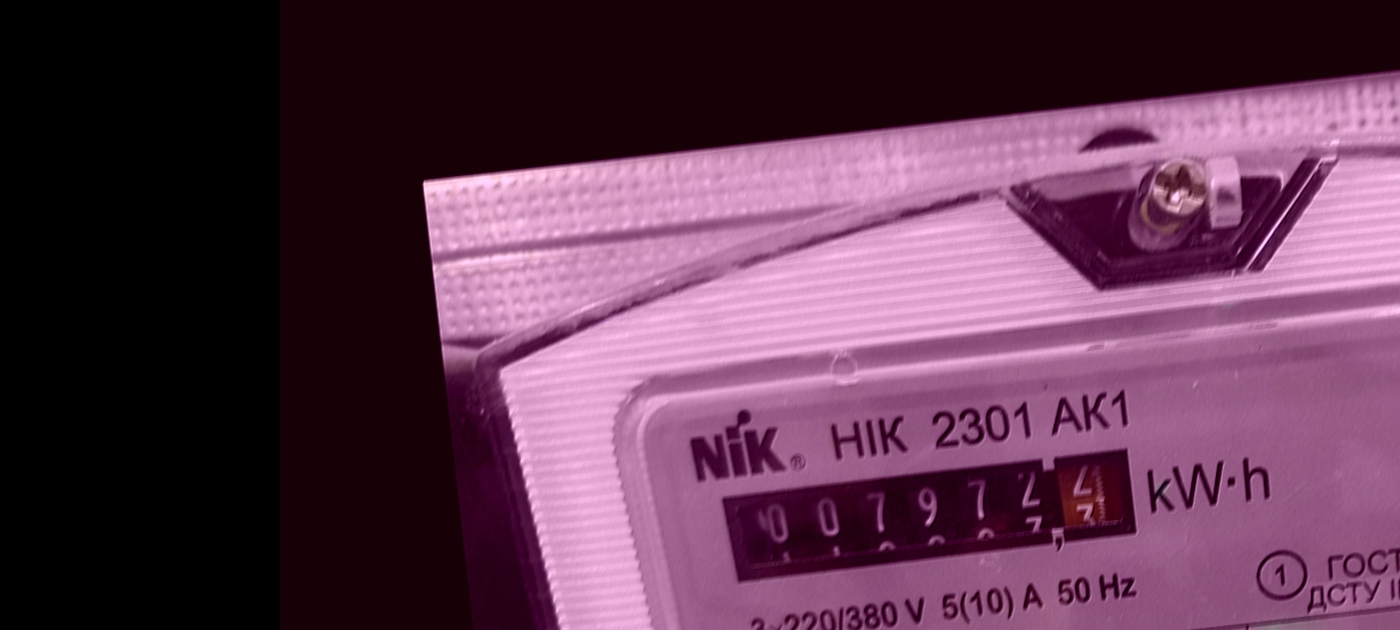0: (762, 501, 793, 545), (814, 495, 842, 539)
2: (1015, 470, 1043, 510), (1067, 464, 1093, 500)
3: (1073, 501, 1097, 528)
7: (963, 476, 994, 524), (863, 489, 892, 536)
9: (914, 484, 941, 529)
screen: (704, 436, 1156, 599)
